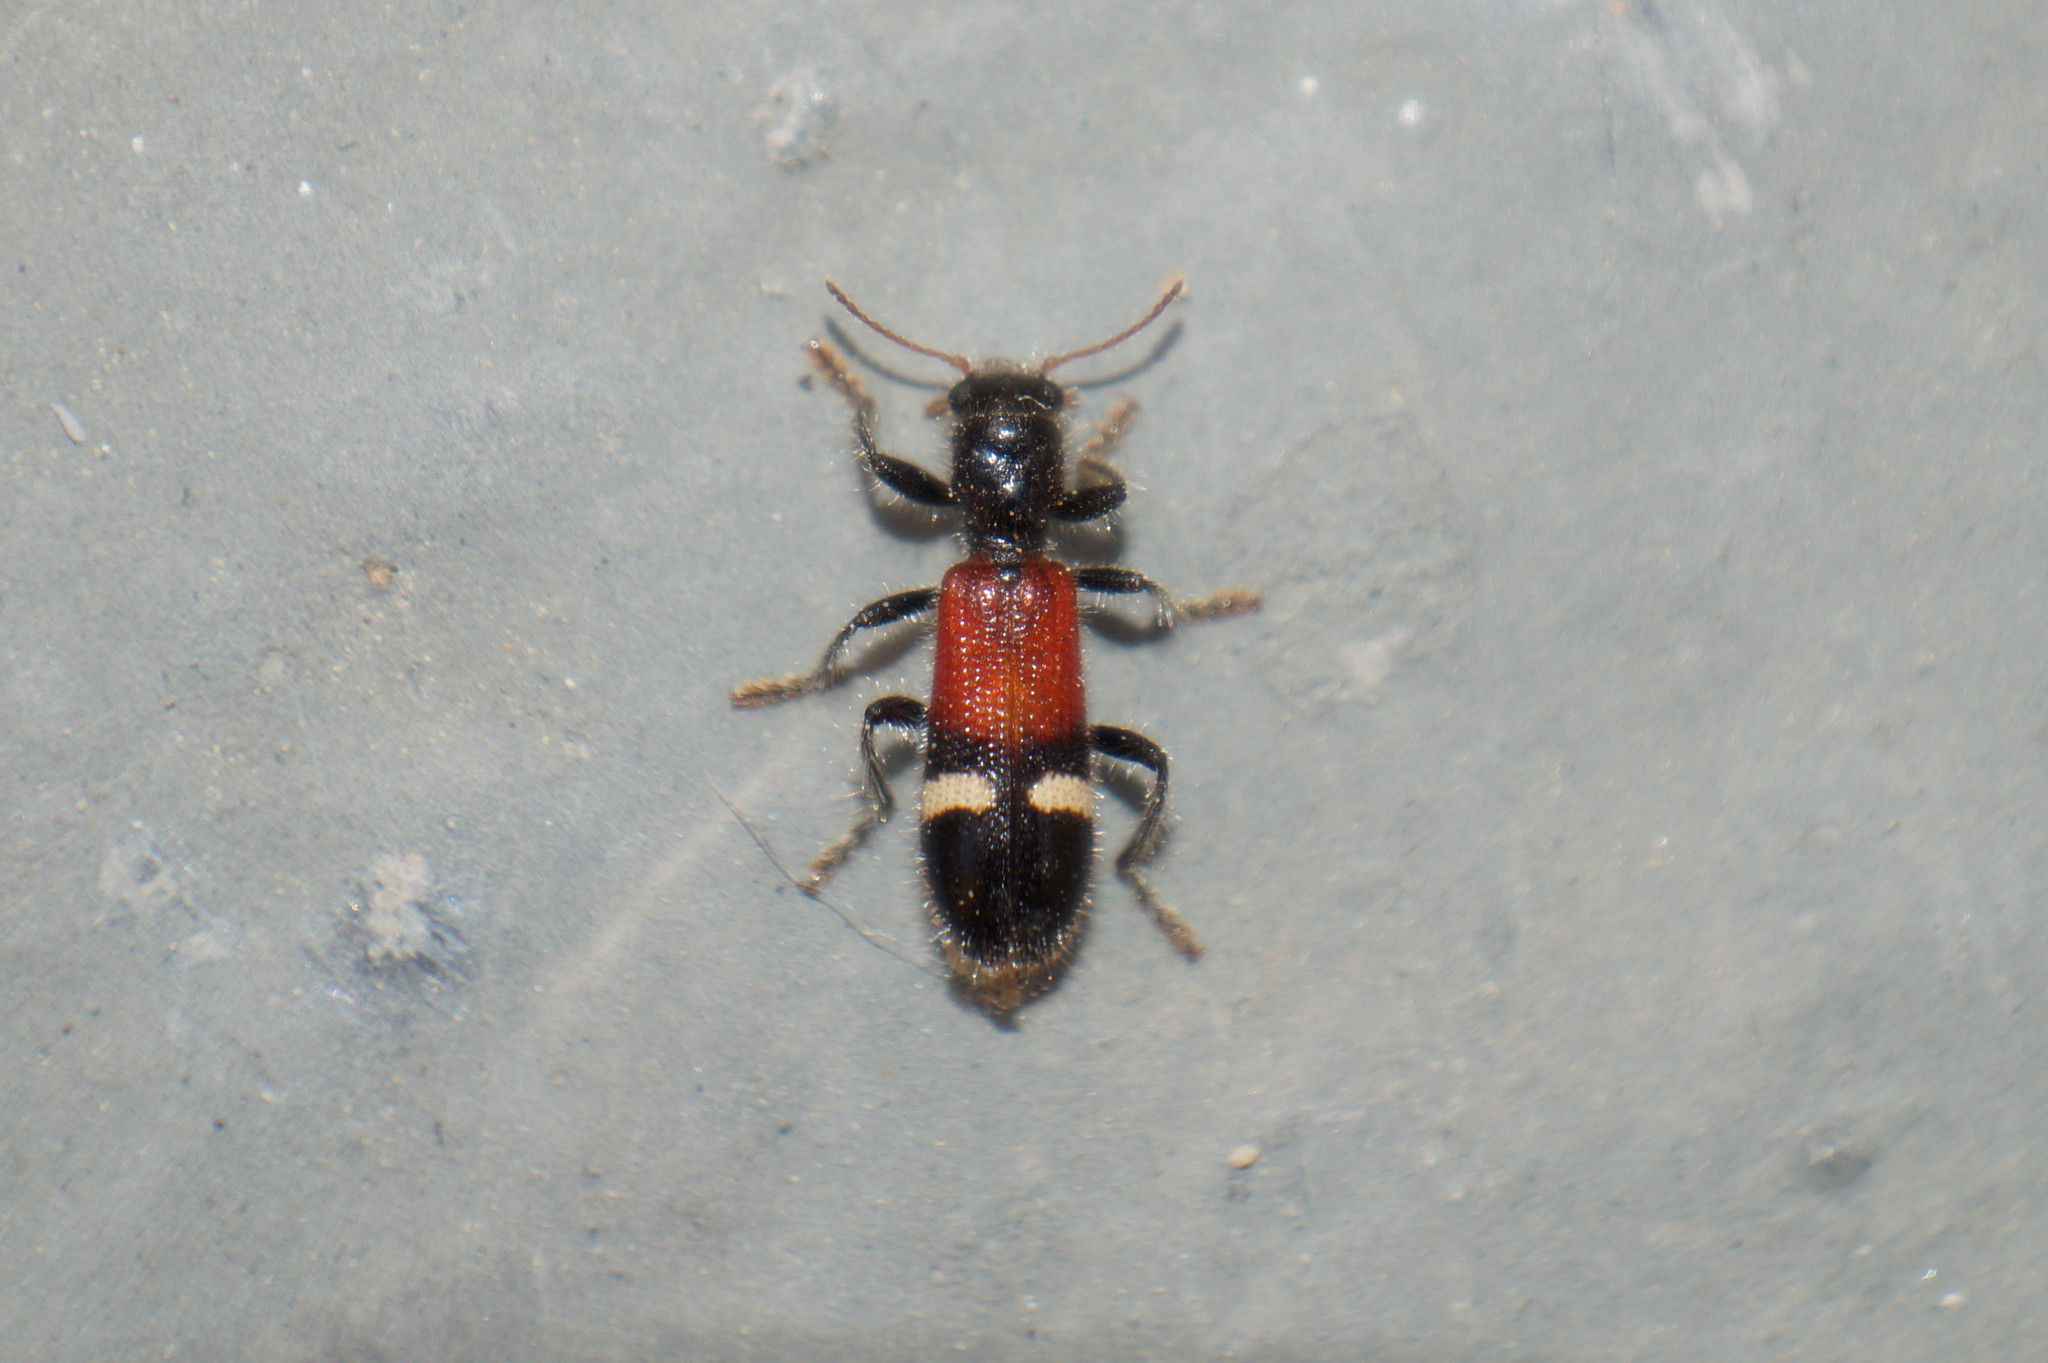opilo_taeniatus: (724, 265, 1276, 1028)
